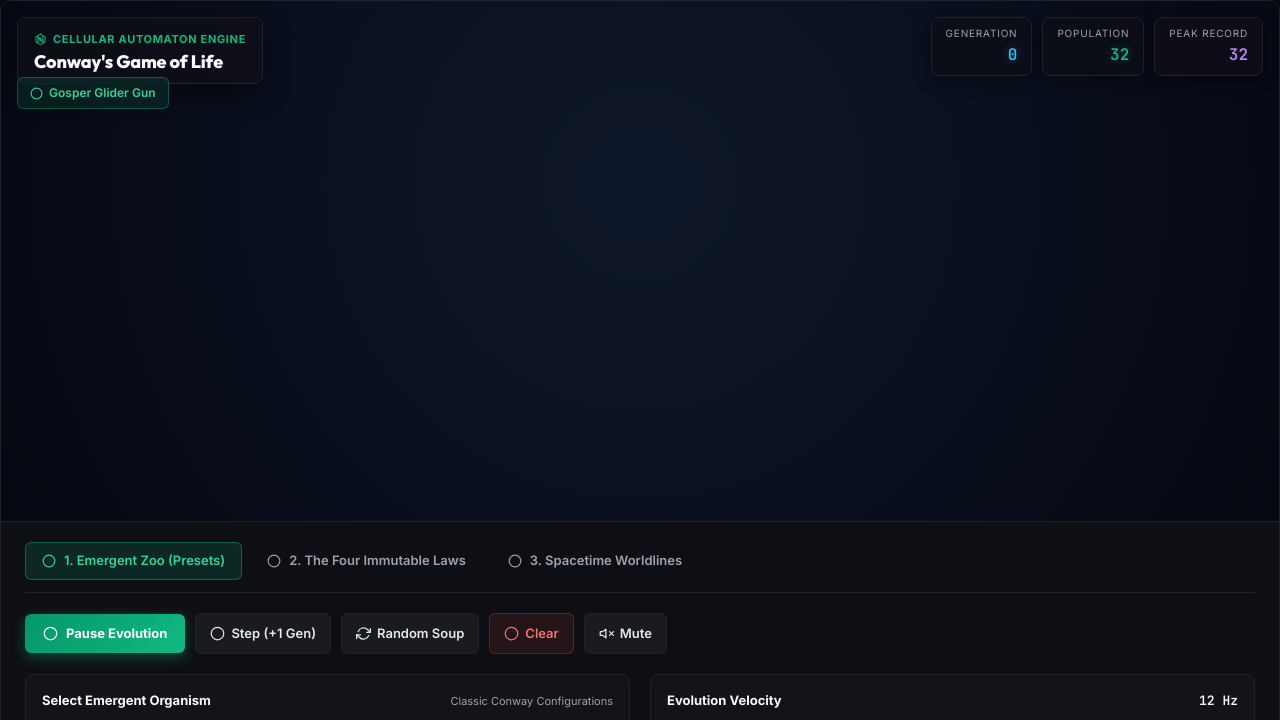
ConwaysGameOfLife3DLab › switches tabs to inspect The Four Immutable Laws and Spacetime
Click the tab "2. The Four Immutable Laws".
click(366, 561)  # box top-left (250, 542), bottom-right (483, 580)
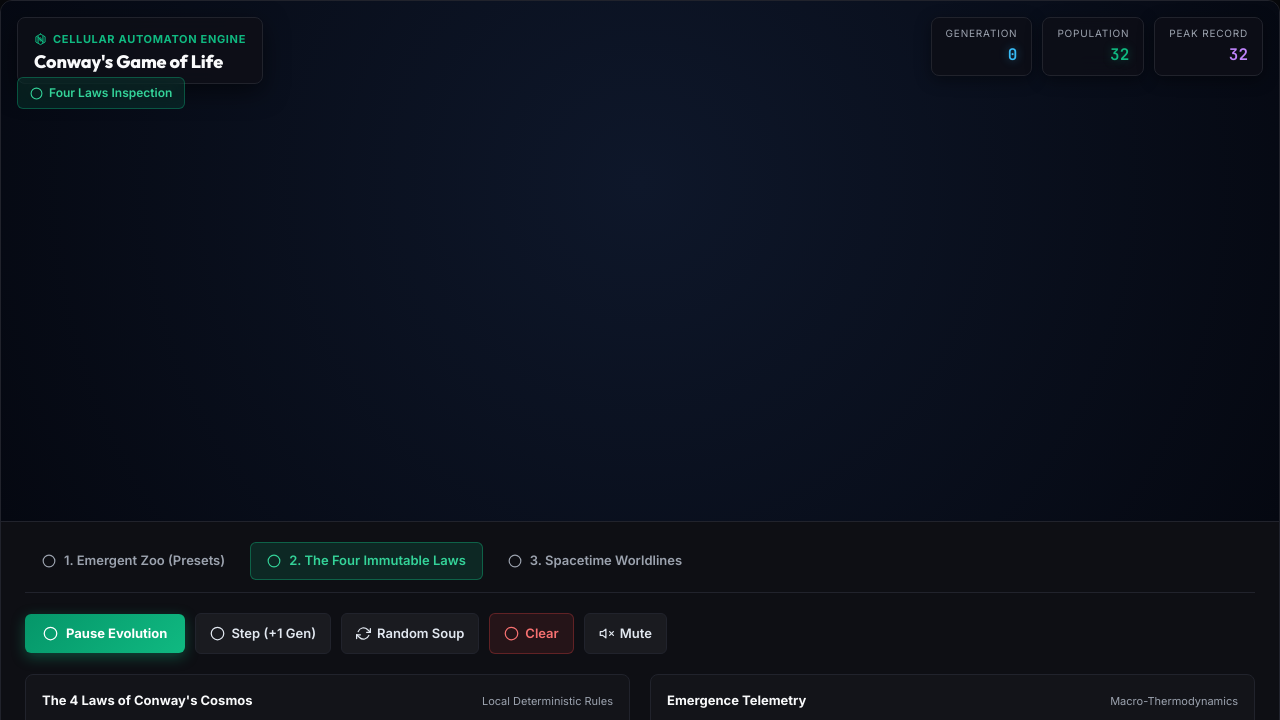
Click the tab "3. Spacetime Worldlines".
click(595, 561)  # box top-left (491, 542), bottom-right (699, 580)
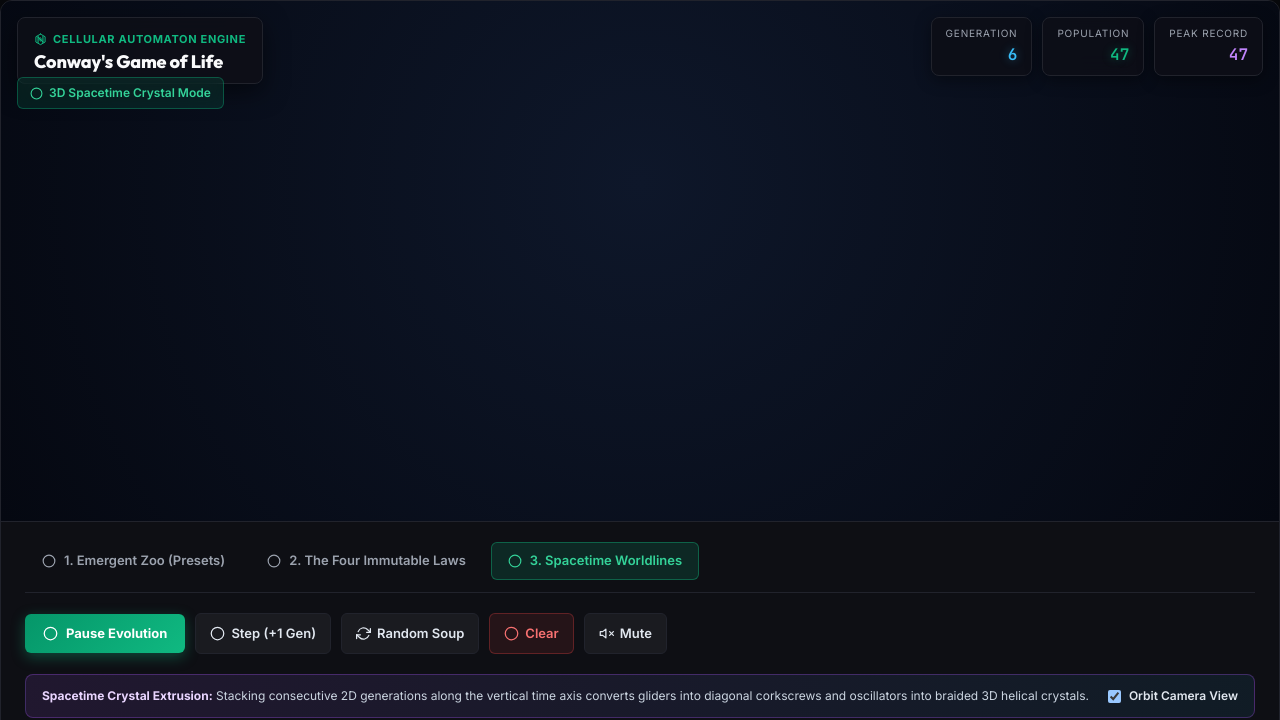
Expected: the text "Spacetime Crystal Extrusion:" is shown, top-left (42, 688), bottom-right (213, 703)
